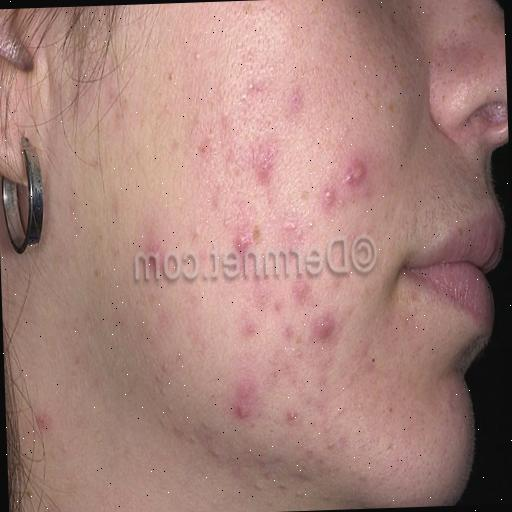Skin_Lesion: (317, 149, 373, 225), (226, 364, 258, 432), (237, 301, 263, 368), (312, 292, 338, 350), (250, 140, 280, 190), (225, 210, 256, 256), (280, 394, 309, 434), (239, 0, 290, 20), (284, 80, 306, 120), (138, 228, 163, 261), (289, 274, 311, 308), (36, 400, 54, 433), (194, 131, 211, 163), (422, 0, 440, 10)
